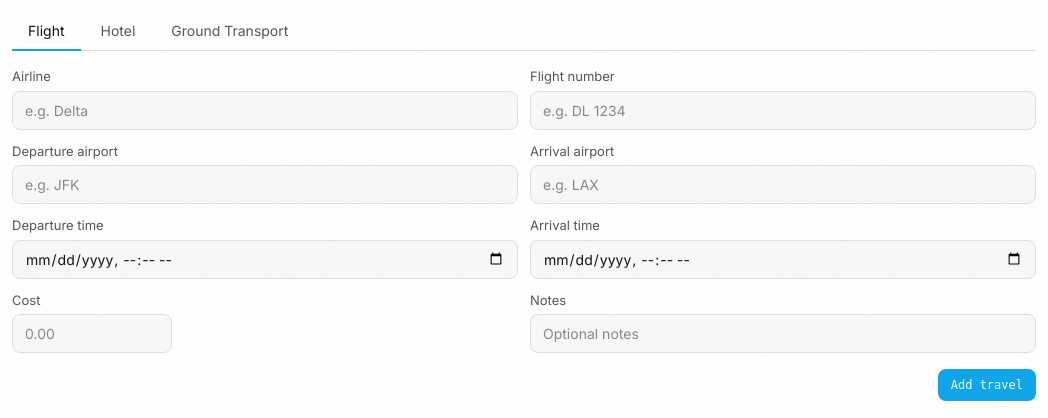
Test case: TravelForm › shows ground transport fields when tab is clicked
Click the tab "Ground Transport".
click(230, 32)  # box 155,12 -> 304,51
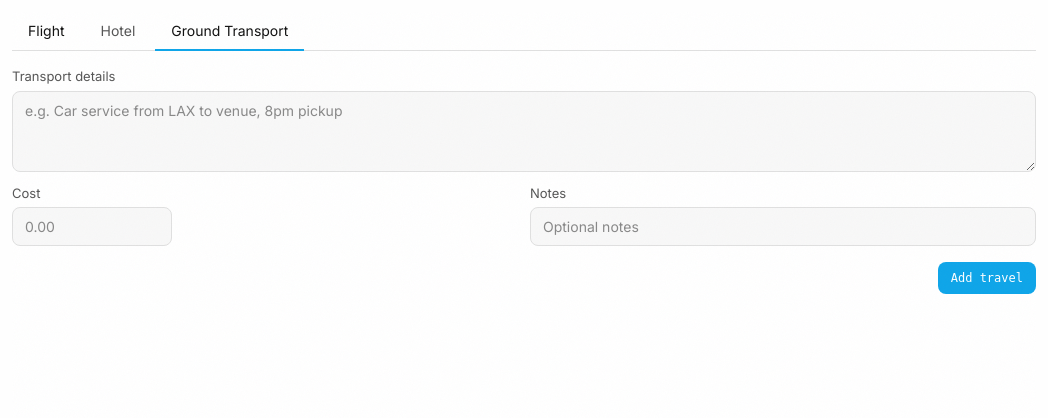
Expected: the text box with placeholder "e.g. Car service from LAX to venue, 8pm pickup" is shown, 12,90 -> 1036,172
